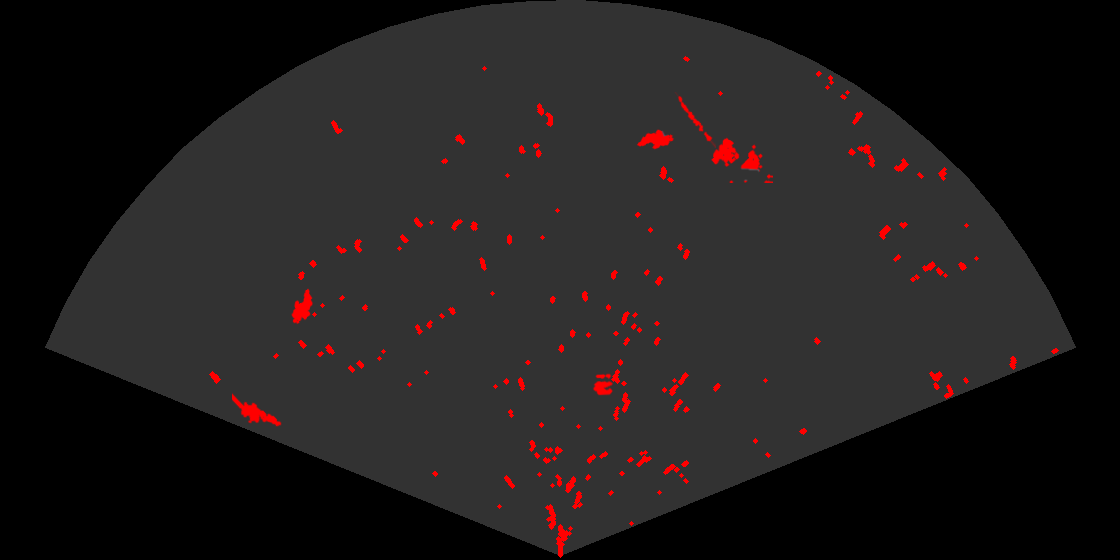AUV: (290, 287, 315, 326), (635, 128, 676, 151)
ball: (591, 372, 615, 397)
cage: (709, 136, 773, 183)
chain: (673, 92, 716, 148)
frogman: (232, 391, 283, 428)
